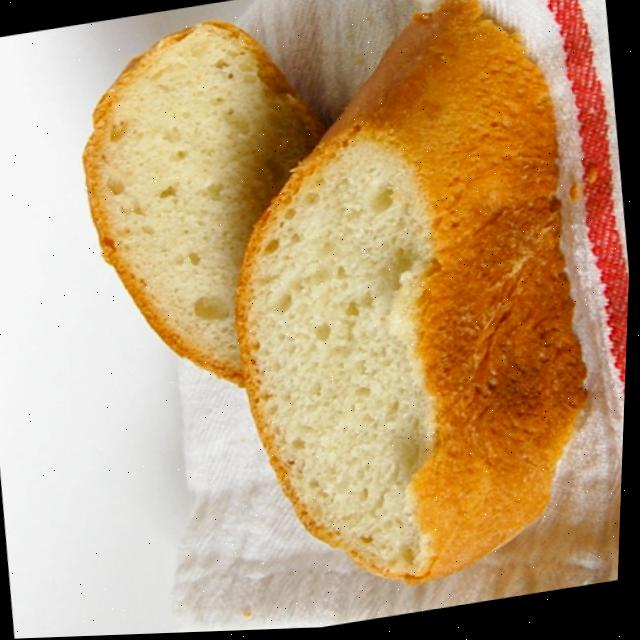面包点心: (30, 0, 636, 637)
